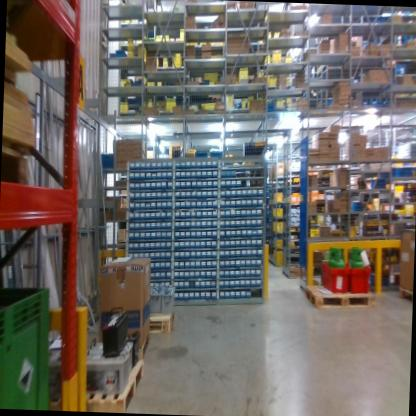pallet: (76, 357, 154, 414), (300, 276, 384, 316), (1, 134, 44, 205), (140, 305, 183, 341), (129, 332, 156, 365), (394, 279, 411, 302)
small_load_carrier: (344, 252, 375, 295), (319, 254, 349, 295)
